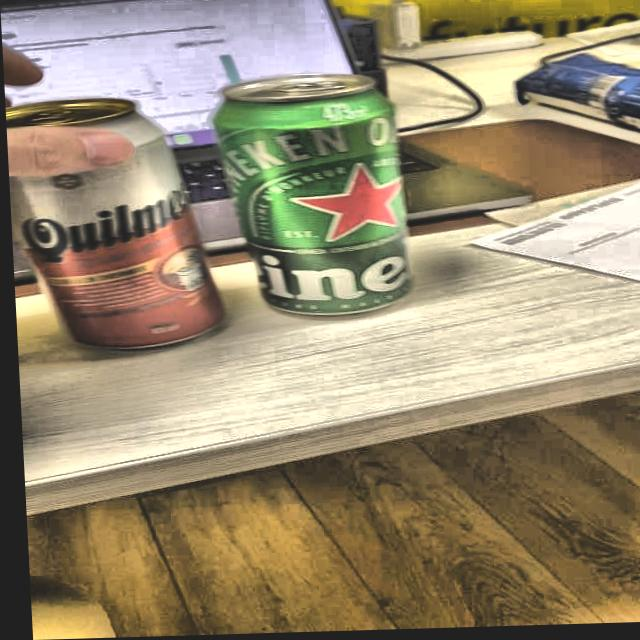can: (4, 89, 226, 353), (210, 66, 418, 326)
